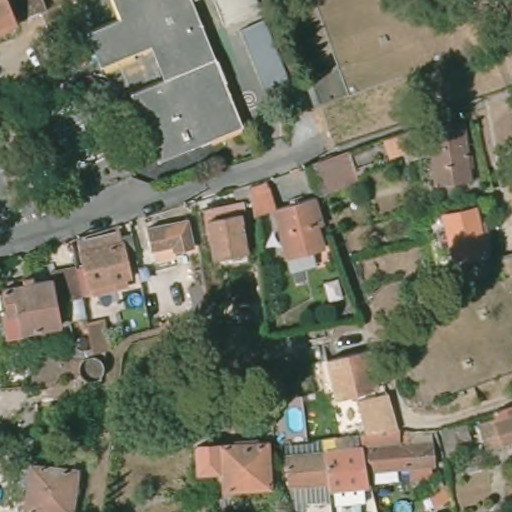pool: (286, 404, 314, 439), (123, 288, 143, 309), (393, 498, 415, 511)
